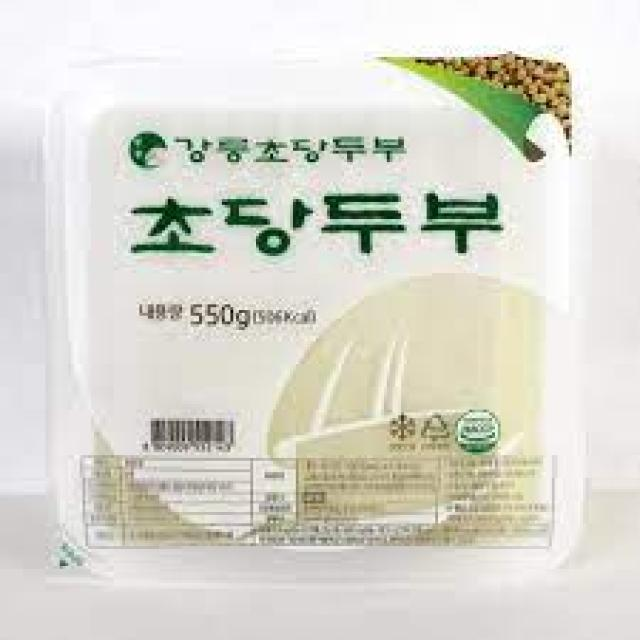tofu: (38, 32, 601, 587)
